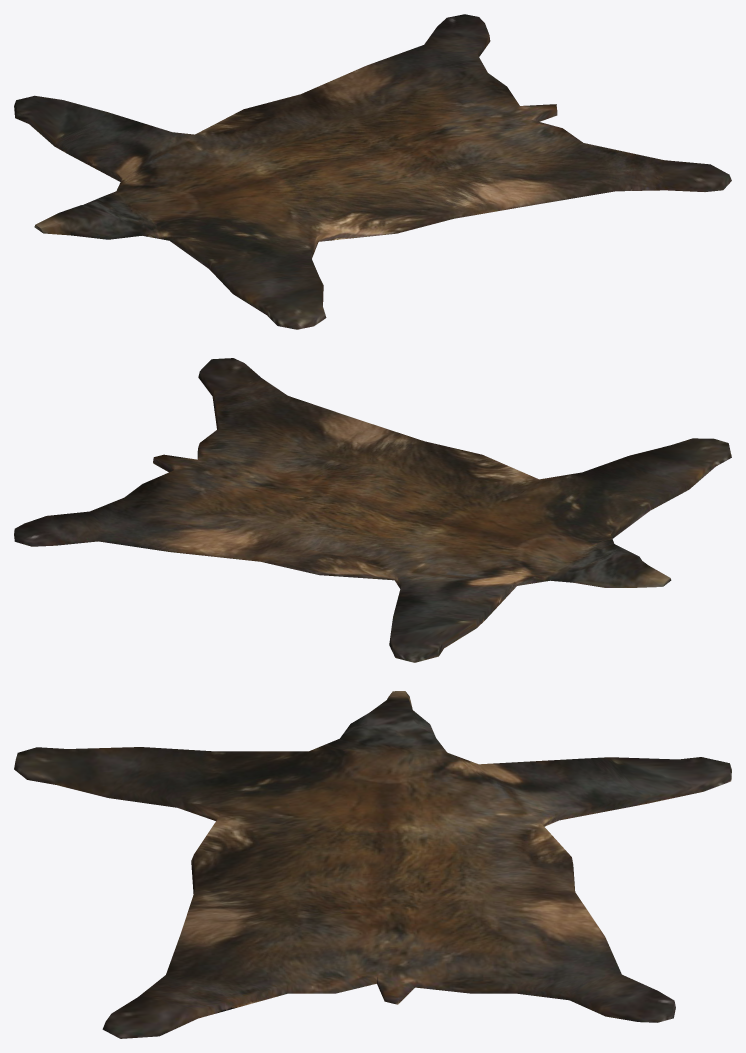
File: bearskin_rug.obj
The picture shows the model from 3 angles, top to bottom: view 1: azimuth 30°, elevation 25°; view 2: azimuth 150°, elevation 25°; view 3: azimuth 270°, elevation 25°; orthographic projection. The views are drawn at different scales.
Parts seen in each view (by area): view 1: skin; view 2: skin; view 3: skin.
Boxes of the visible parts, x1,y1,x2,y2 form: skin: (14, 14, 731, 329); skin: (14, 358, 731, 662); skin: (14, 691, 731, 1038).
Bounding box in the file's own units: 9.77 × 0.2476 × 8.82.
1 material, 1 textured.
